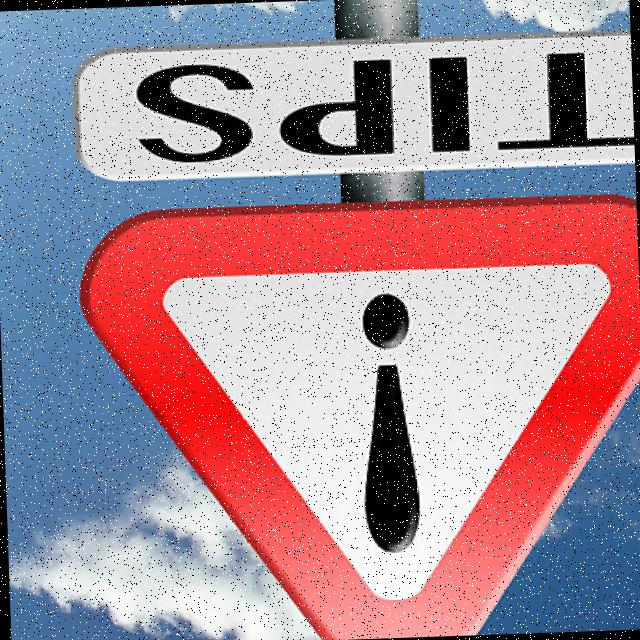warning: (71, 187, 640, 640)
